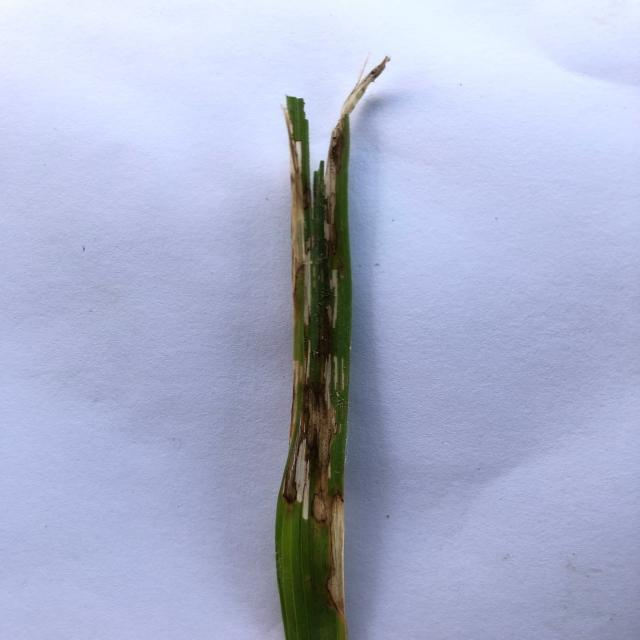Bacterial_Leaf_Blight: (275, 28, 367, 640)
